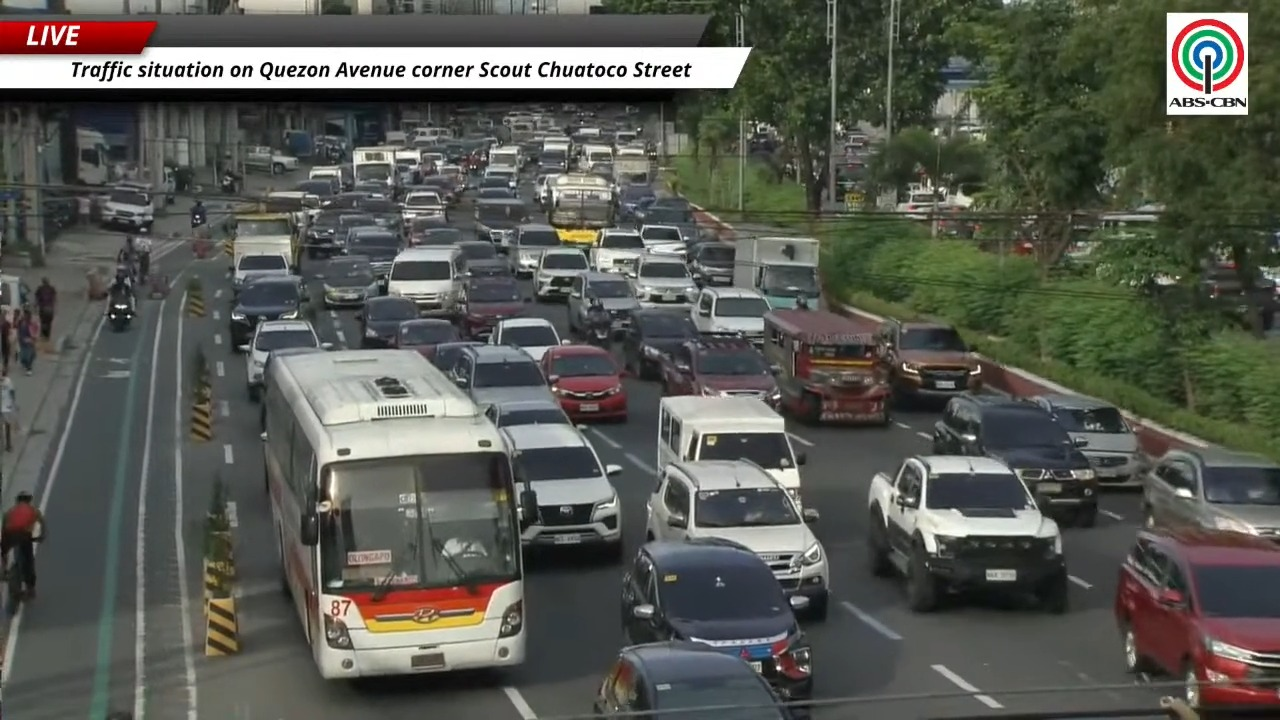bus: (262, 350, 535, 678), (547, 173, 615, 248)
car: (867, 456, 1068, 613), (1113, 527, 1279, 716), (621, 537, 812, 700), (646, 460, 829, 619), (932, 392, 1098, 526), (500, 424, 622, 558), (593, 641, 794, 719), (762, 309, 891, 426), (1143, 447, 1279, 540), (1028, 394, 1146, 486), (657, 334, 779, 408), (877, 319, 981, 399), (237, 319, 331, 401), (541, 345, 627, 421), (448, 345, 553, 404), (228, 276, 304, 348), (623, 308, 698, 378), (458, 274, 530, 338), (566, 271, 639, 334), (690, 287, 769, 344), (628, 254, 697, 310), (638, 198, 703, 254), (259, 347, 327, 396), (489, 318, 568, 360), (314, 255, 375, 308), (356, 296, 418, 348), (475, 193, 527, 251), (533, 247, 588, 300), (508, 224, 560, 277), (345, 226, 401, 275), (394, 318, 461, 358), (589, 227, 644, 273), (484, 398, 571, 427), (231, 253, 291, 295), (102, 183, 153, 232), (687, 242, 735, 286), (305, 207, 343, 259), (333, 210, 376, 253), (640, 223, 686, 262), (406, 216, 464, 246), (430, 341, 484, 373), (402, 190, 446, 221), (455, 240, 496, 271), (618, 185, 656, 218), (412, 227, 466, 246), (478, 168, 516, 193), (466, 258, 513, 278), (353, 180, 388, 199), (477, 186, 517, 199)
motorcycle: (585, 319, 612, 348), (108, 301, 133, 331), (588, 326, 612, 349), (220, 173, 239, 194), (190, 212, 207, 229)
truck: (733, 235, 820, 308), (352, 146, 398, 190), (613, 153, 652, 185)
